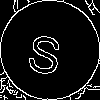S: (25, 25, 66, 76)
